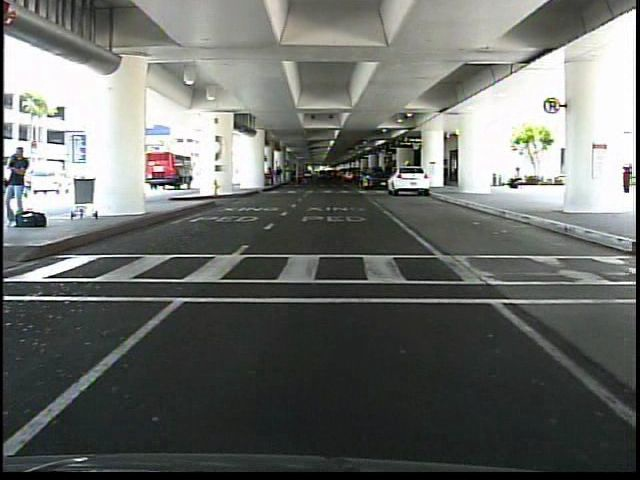person: (5, 143, 36, 231), (612, 159, 635, 198), (501, 164, 526, 196)
